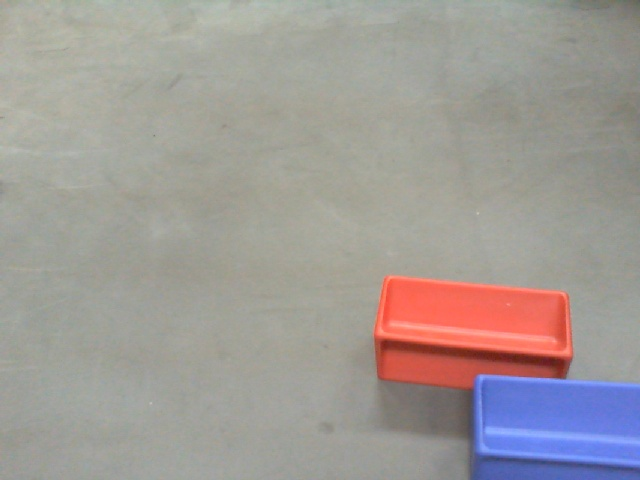BlueSample: (472, 374, 640, 480)
RedSample: (372, 269, 575, 390)
